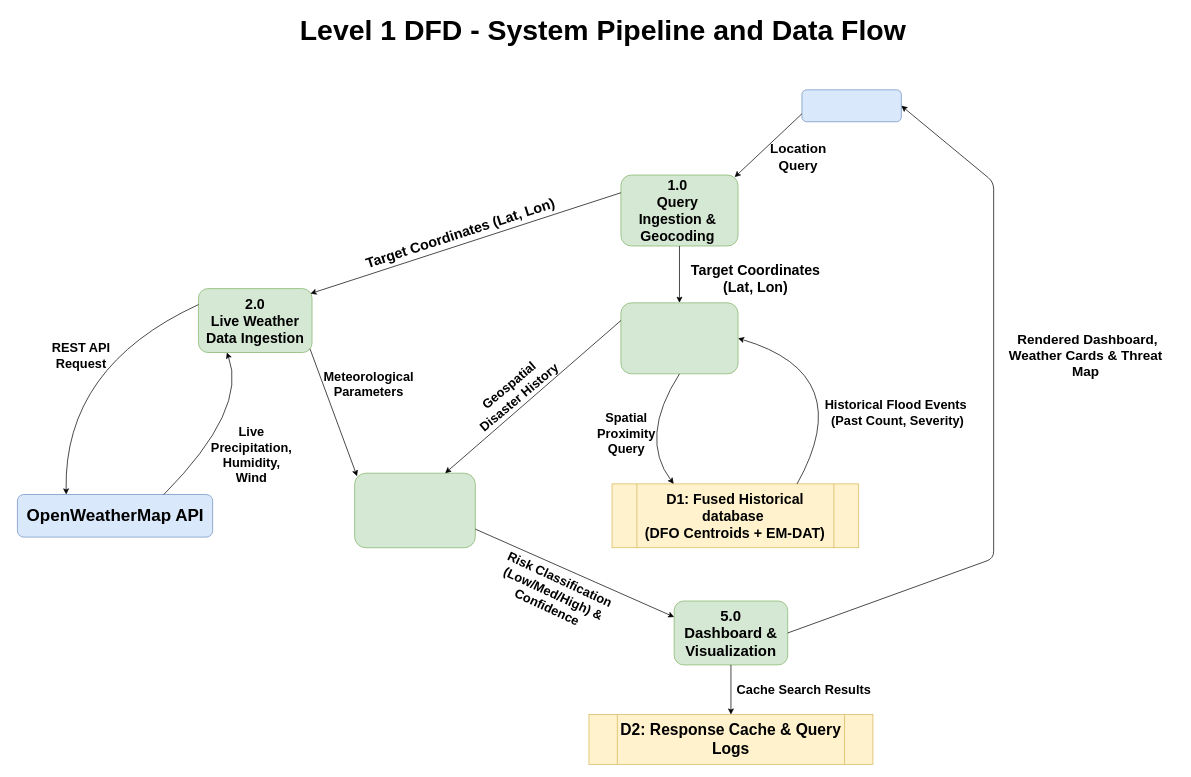
Image size: 1191x777. Some labels were removed from this diagram. Each missing label, with the box of its shape:
3.0 Historical Threat Extraction: (620, 302, 738, 374)
4.0 Feature Fusion & Risk Prediction: (354, 473, 475, 548)
End User: (801, 89, 901, 122)
